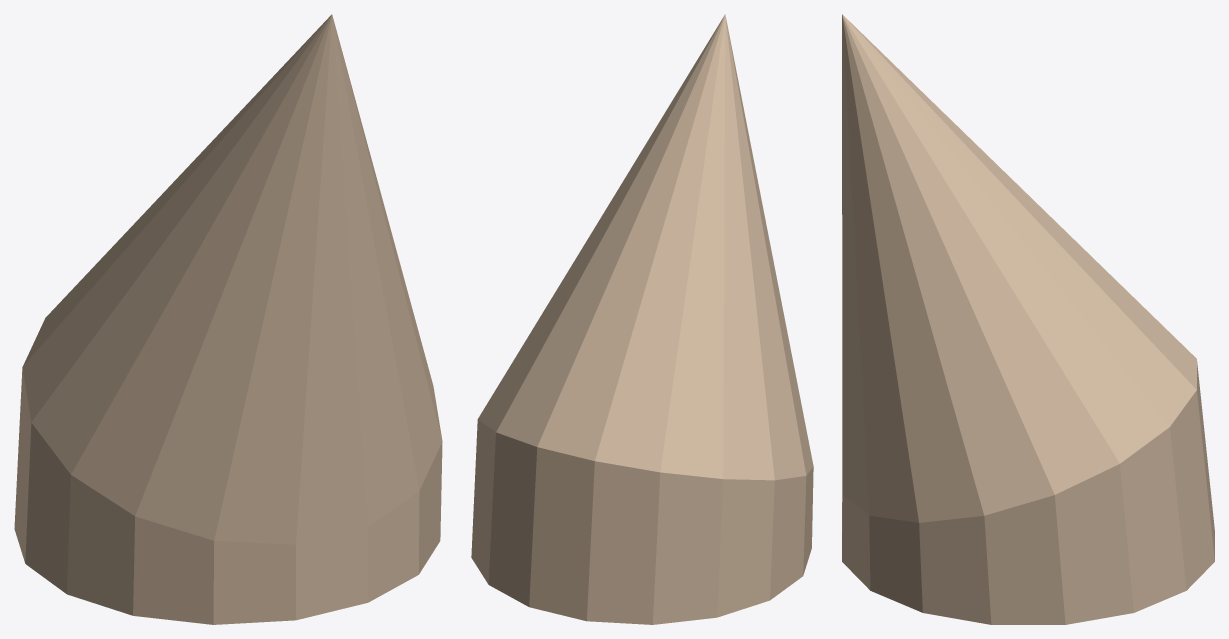
File: hydra_lv_nose_fuel_tank_s2_2_collider.obj
3 renders of one model, left to right at view 1: azimuth 30°, elevation 25°; view 2: azimuth 150°, elevation 25°; view 3: azimuth 270°, elevation 25°, orthographic. The views are drawn at different scales.
Visible parts, largest first — view 1: collider; view 2: collider; view 3: collider.
Boxes of the visible parts, bbox=[...] form: collider: bbox=[14, 14, 442, 624]; collider: bbox=[471, 14, 813, 624]; collider: bbox=[842, 14, 1214, 624].
Size of the model in its own units: 2.5 by 3.94 by 2.5.
